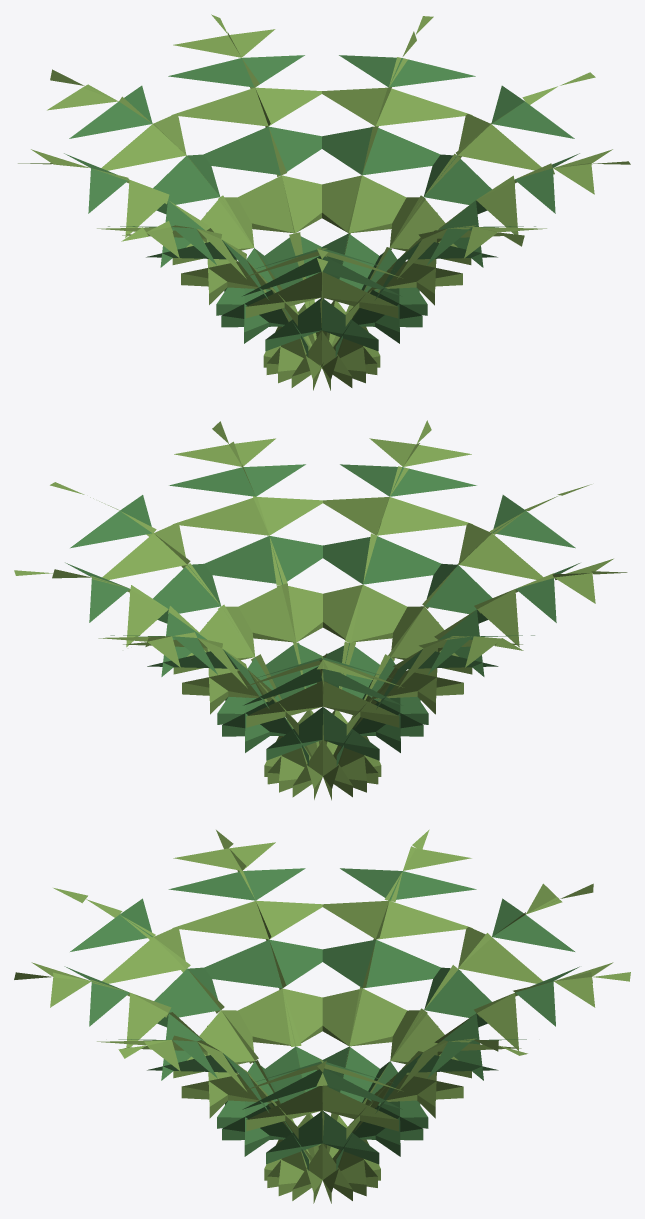
File: fern_low.glb
3 renders of one model, top to bottom at view 1: azimuth 30°, elevation 25°; view 2: azimuth 150°, elevation 25°; view 3: azimuth 270°, elevation 25°, orthographic.
Visible parts, largest first — view 1: fern.001; view 2: fern.001; view 3: fern.001.
Part boxes in pixels (x1,y1,x2,y2): fern.001: (18,14,630,390); fern.001: (14,420,627,800); fern.001: (14,829,630,1203).
Size of the model in its own units: 1.65 by 0.7031 by 1.68.
